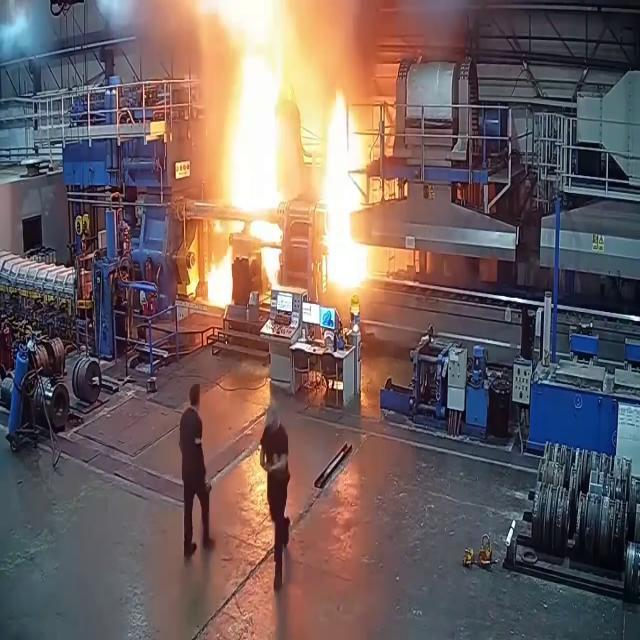Fire: (208, 0, 296, 264), (315, 81, 377, 297), (188, 231, 236, 311)
